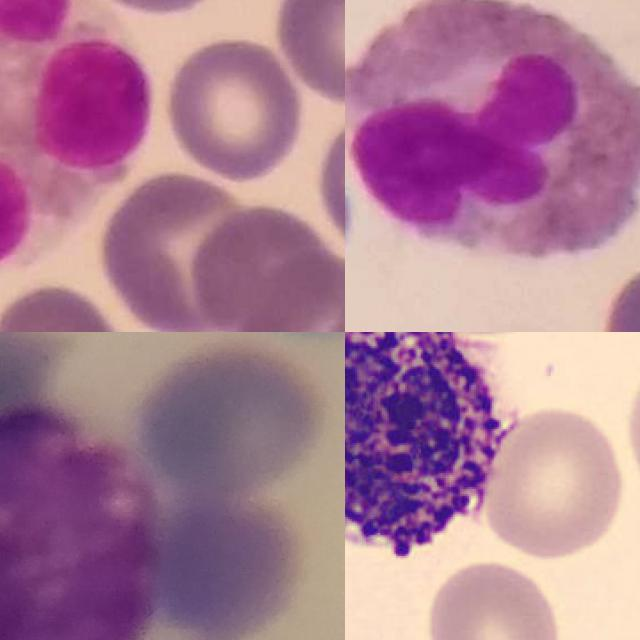Basophil: (345, 332, 524, 585), (0, 406, 163, 640)
Eosinophil: (345, 0, 640, 262), (0, 0, 156, 271)
RBC: (480, 401, 631, 563), (421, 554, 565, 640), (621, 342, 640, 511)
